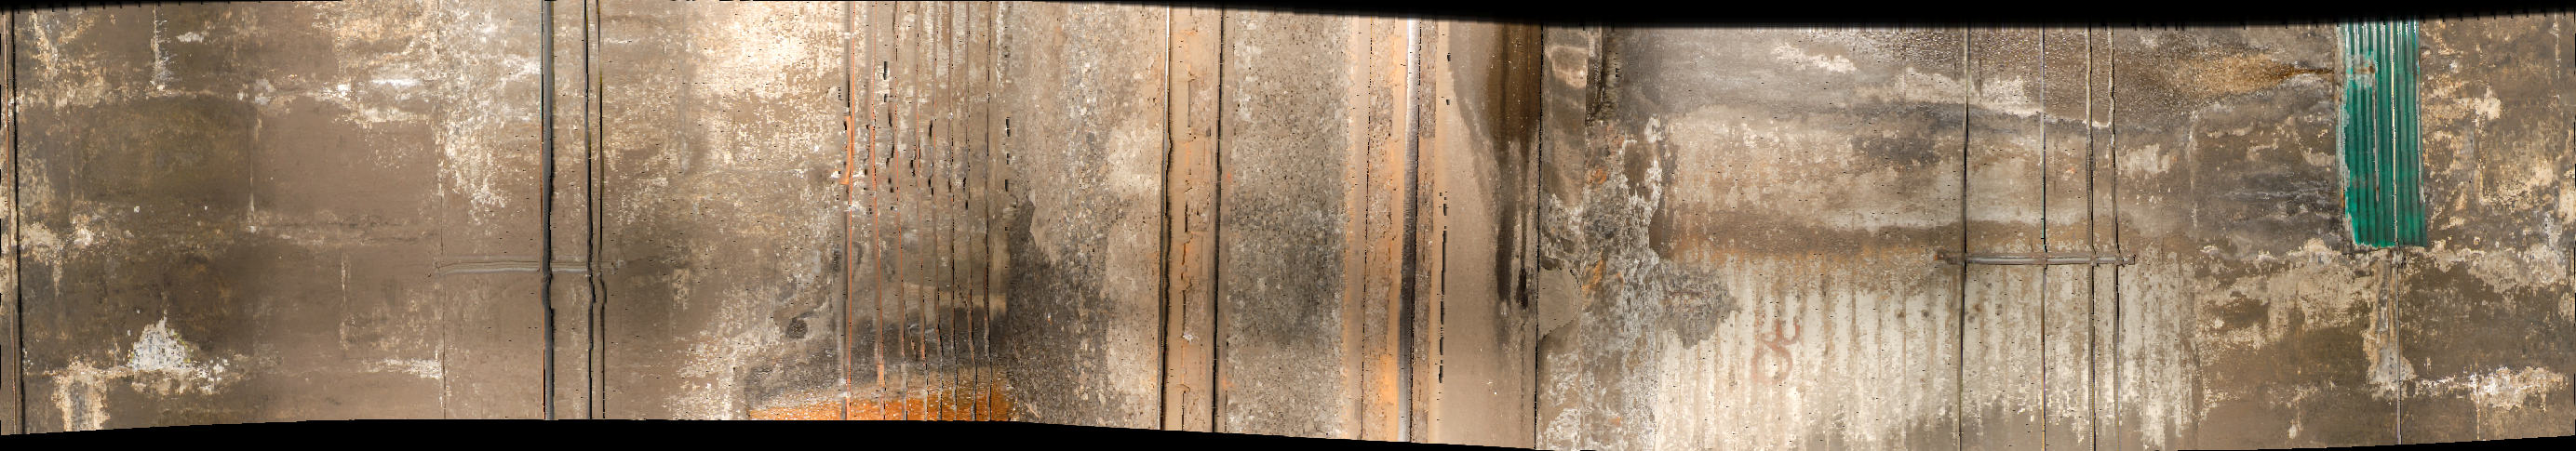green cables: (2338, 18, 2427, 256)
pipes: (1948, 33, 2134, 451), (841, 5, 1020, 436), (534, 5, 613, 440)
tracks: (1160, 2, 1529, 451)
